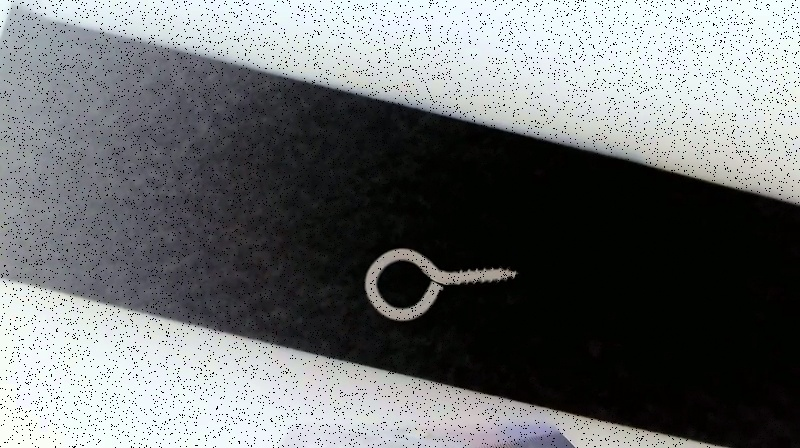O001: (360, 246, 522, 322)
